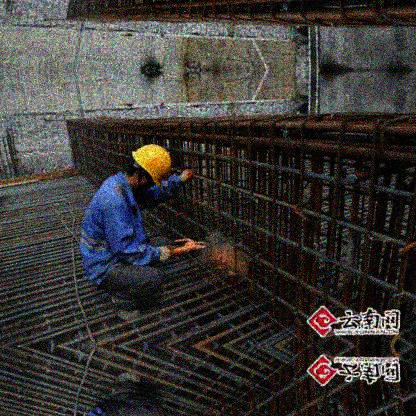helmet: (121, 143, 171, 197)
